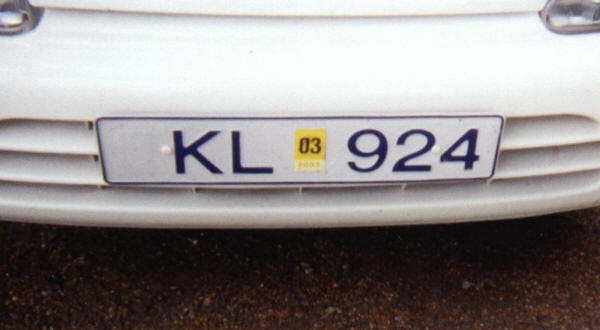license_plate: (93, 115, 504, 183)
